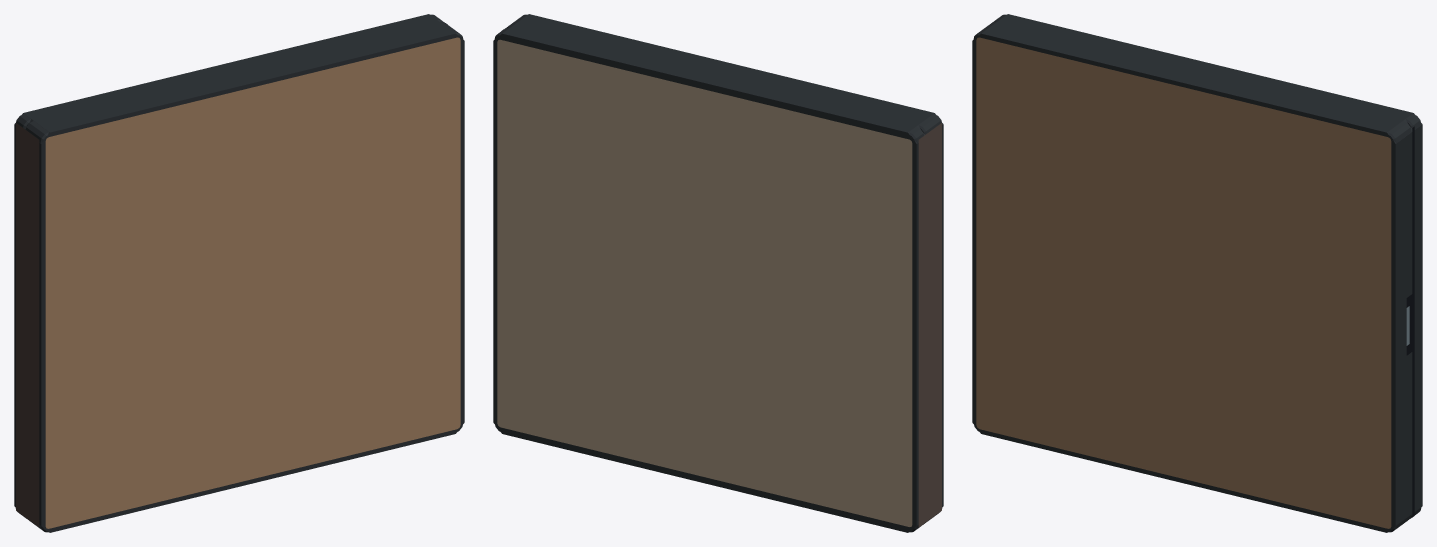
Rendered from handheld.glb.
3 views of the same model, side by side, from view 1: azimuth 30°, elevation 25°; view 2: azimuth 150°, elevation 25°; view 3: azimuth 330°, elevation 25° (orthographic).
Visible parts, largest first — view 1: Detail_handheld, Shelf_handheld; view 2: Detail_handheld, Shelf_handheld; view 3: Detail_handheld, Shelf_handheld.
Part boxes in pixels (x1=…): Detail_handheld: x1=15, y1=14, x2=463, y2=532; Shelf_handheld: x1=14, y1=14, x2=464, y2=532; Detail_handheld: x1=494, y1=14, x2=942, y2=532; Shelf_handheld: x1=493, y1=14, x2=943, y2=532; Detail_handheld: x1=973, y1=14, x2=1421, y2=532; Shelf_handheld: x1=972, y1=14, x2=1422, y2=532.
Size of what is drawn, in the model's own units: 0.135 by 0.1219 by 0.015.
